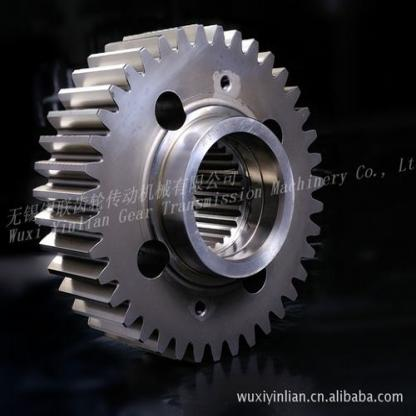FOD: (31, 16, 327, 368)
